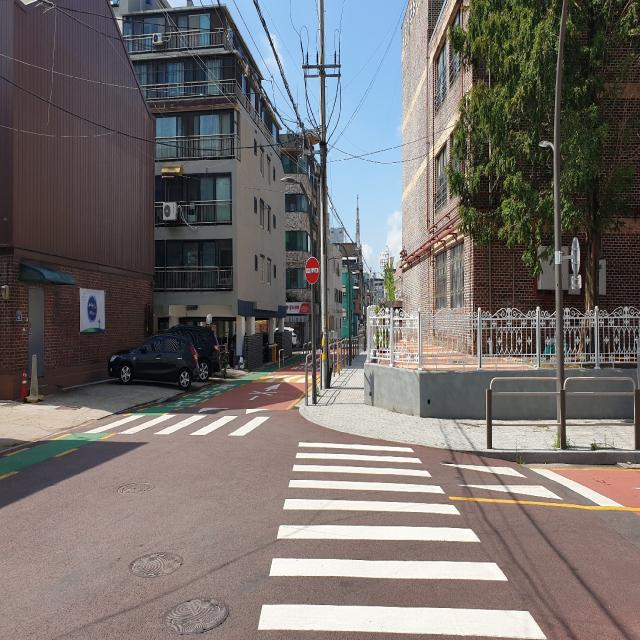횡단보도: (255, 438, 552, 639), (77, 402, 274, 440)
